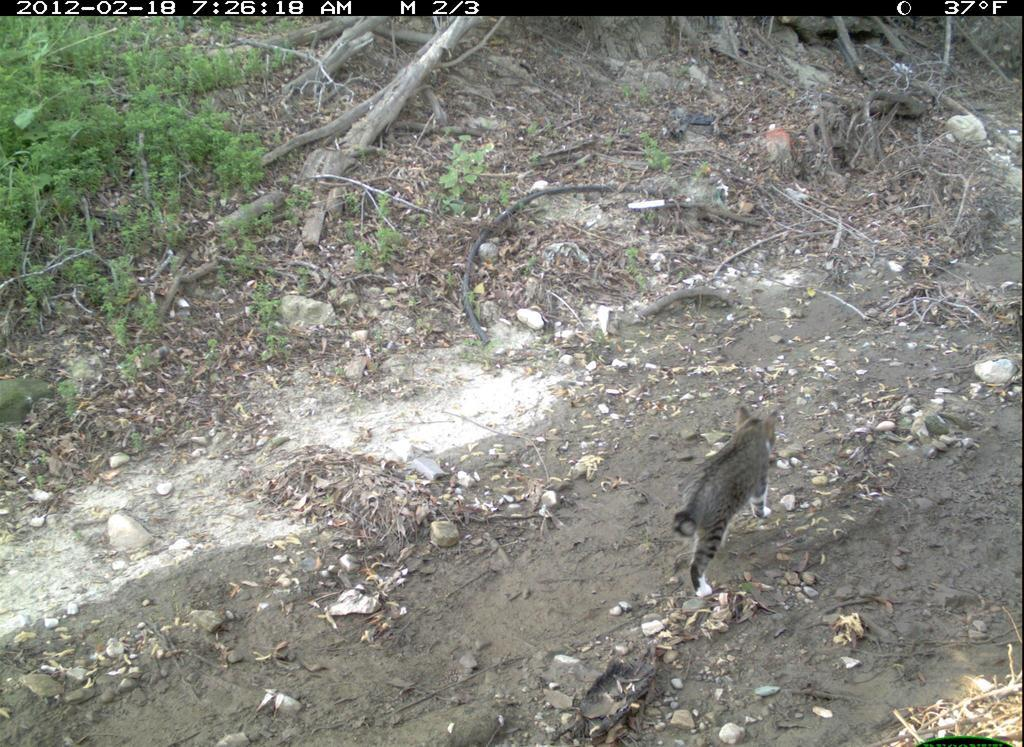cat: (664, 404, 788, 598)
